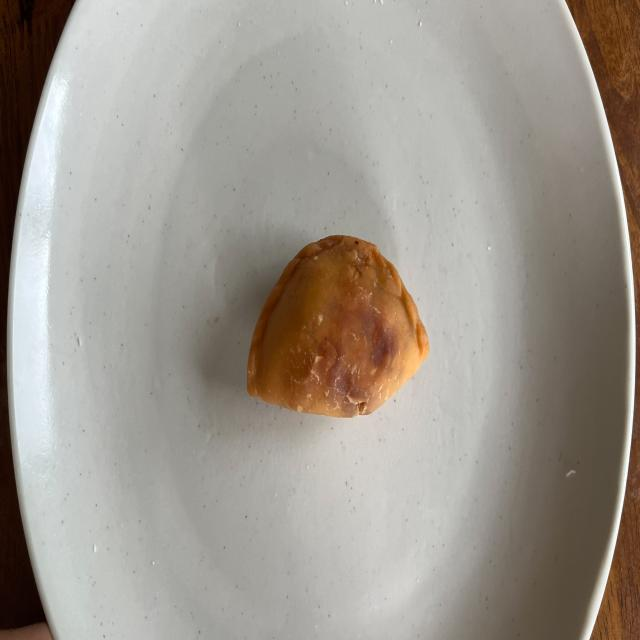karipap: (248, 236, 429, 418)
